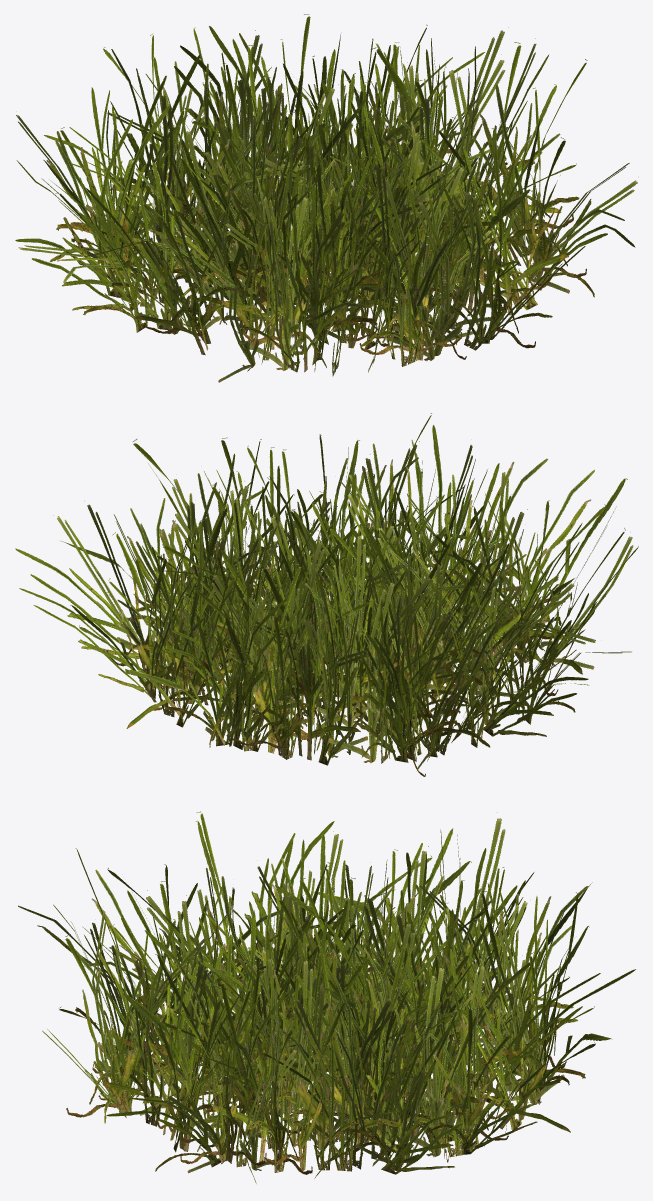
File: grass.glb
The picture shows the model from 3 angles, top to bottom: view 1: azimuth 30°, elevation 25°; view 2: azimuth 150°, elevation 25°; view 3: azimuth 270°, elevation 25°; orthographic projection. The views are drawn at different scales.
Parts seen in each view (by area): view 1: gm; view 2: gm; view 3: gm.
Boxes of the visible parts, x1=… form: gm: x1=15, y1=14, x2=637, y2=382; gm: x1=15, y1=413, x2=638, y2=776; gm: x1=18, y1=811, x2=635, y2=1183.
Size of the model in its own units: 32.34 by 10.35 by 29.38.
1 material, 1 textured.
